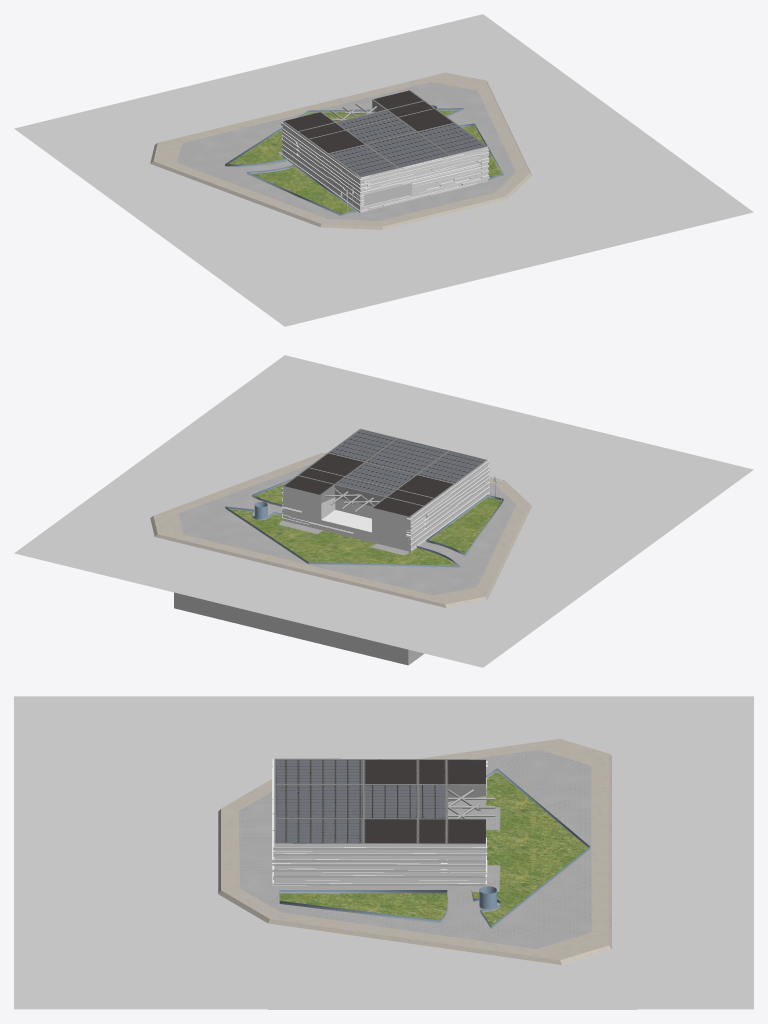
File: KSA_PAVILLON_ANIM_OK_03.fbx
3 renders of one model, top to bottom at view 1: azimuth 30°, elevation 25°; view 2: azimuth 150°, elevation 25°; view 3: azimuth 270°, elevation 25°, orthographic. The views are drawn at different scales.
Visible parts, largest first — view 1: SHADOW, SOL, ADDS, BATIMENT, OCCLUDER, GLASS, SIDE SCREENS, NAME_FRONT; view 2: SHADOW, SOL, ADDS, BATIMENT, OCCLUDER, GLASS, SIDE SCREENS; view 3: SHADOW, SOL, ADDS, BATIMENT, SIDE SCREENS, GLASS, OCCLUDER, ADDS_METAL.
Part boxes in pixels (x1,y1,x2,y2): SHADOW: (14, 14, 753, 326); SOL: (150, 72, 532, 229); ADDS: (283, 90, 487, 177); BATIMENT: (281, 108, 489, 213); OCCLUDER: (174, 74, 540, 229); GLASS: (225, 105, 503, 215); SIDE SCREENS: (282, 124, 488, 207); NAME_FRONT: (364, 183, 412, 205); SHADOW: (14, 355, 753, 667); SOL: (150, 452, 532, 607); ADDS: (283, 428, 487, 516); BATIMENT: (281, 440, 489, 551); OCCLUDER: (174, 579, 424, 665); GLASS: (225, 478, 503, 567); SIDE SCREENS: (282, 462, 489, 545); SHADOW: (14, 696, 753, 1009); SOL: (218, 739, 611, 964); ADDS: (274, 758, 485, 844); BATIMENT: (272, 758, 487, 891); SIDE SCREENS: (274, 847, 485, 885); GLASS: (279, 768, 590, 928); OCCLUDER: (268, 789, 637, 1009); ADDS_METAL: (448, 789, 495, 818).
Size of the model in its own units: 2618 by 508 by 2618.
